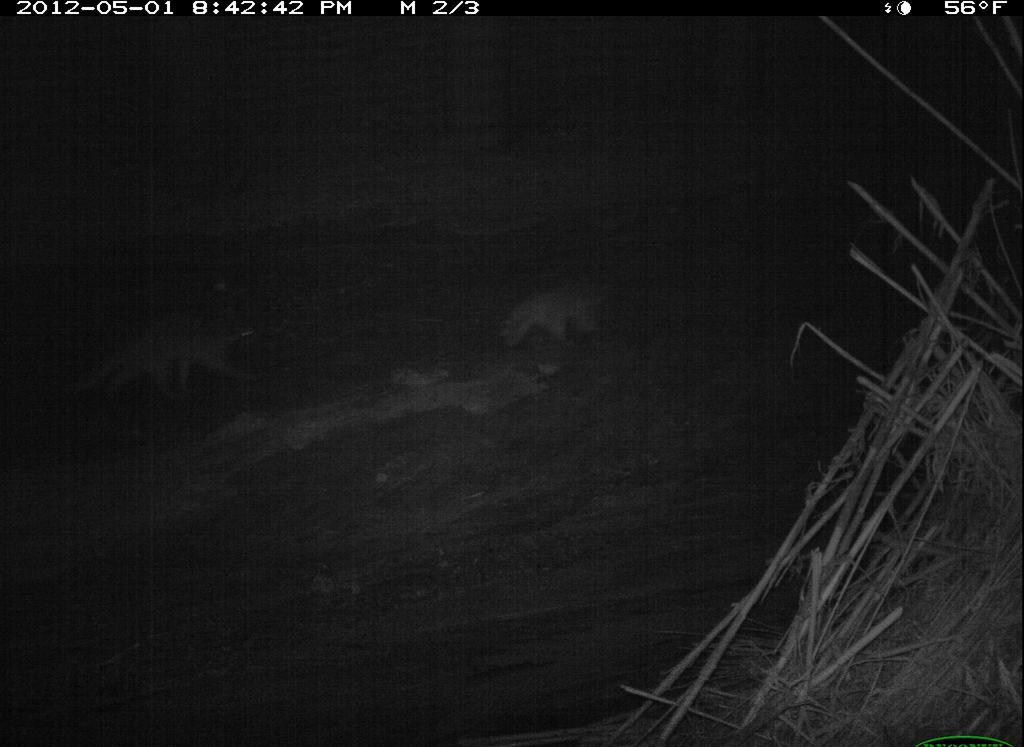raccoon: (66, 289, 274, 445), (477, 259, 649, 370)
